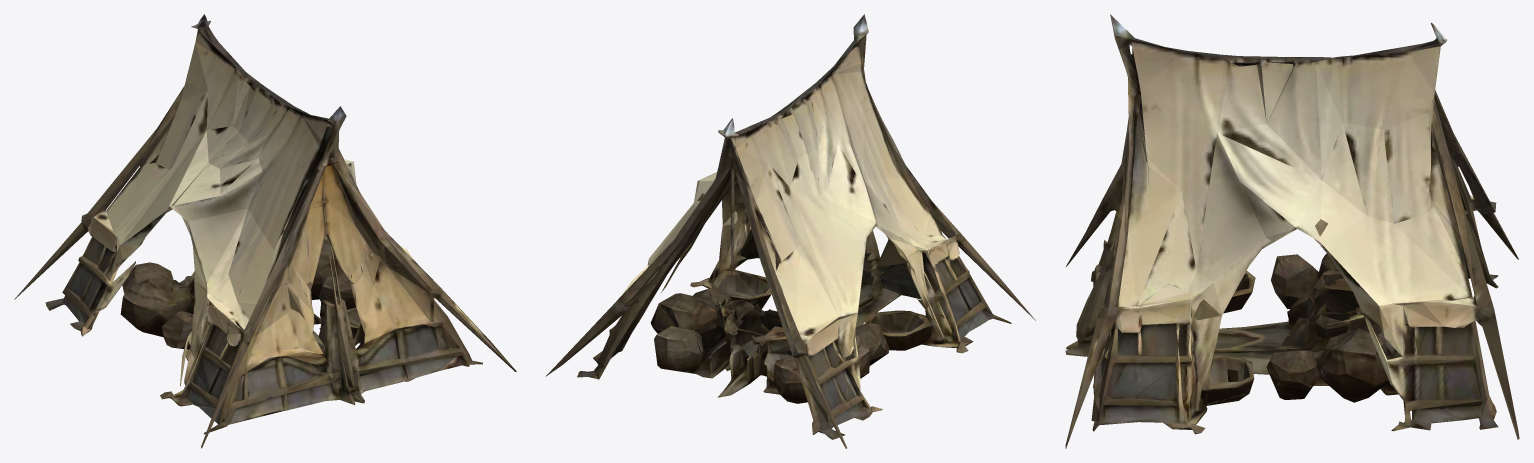
The model's file is war_field_tent_01.glb.
The picture shows the model from 3 angles, left to right: view 1: azimuth 30°, elevation 25°; view 2: azimuth 150°, elevation 25°; view 3: azimuth 270°, elevation 25°; orthographic projection. The views are drawn at different scales.
Visible parts, largest first — view 1: geometry_0; view 2: geometry_0; view 3: geometry_0.
Boxes of the visible parts, x1=… form: geometry_0: x1=14, y1=14, x2=516, y2=448; geometry_0: x1=545, y1=14, x2=1035, y2=448; geometry_0: x1=1065, y1=14, x2=1519, y2=448.
Size of the model in its own units: 0.9486 by 0.8385 by 0.9996.
Materials: 1 (1 with a texture image).
